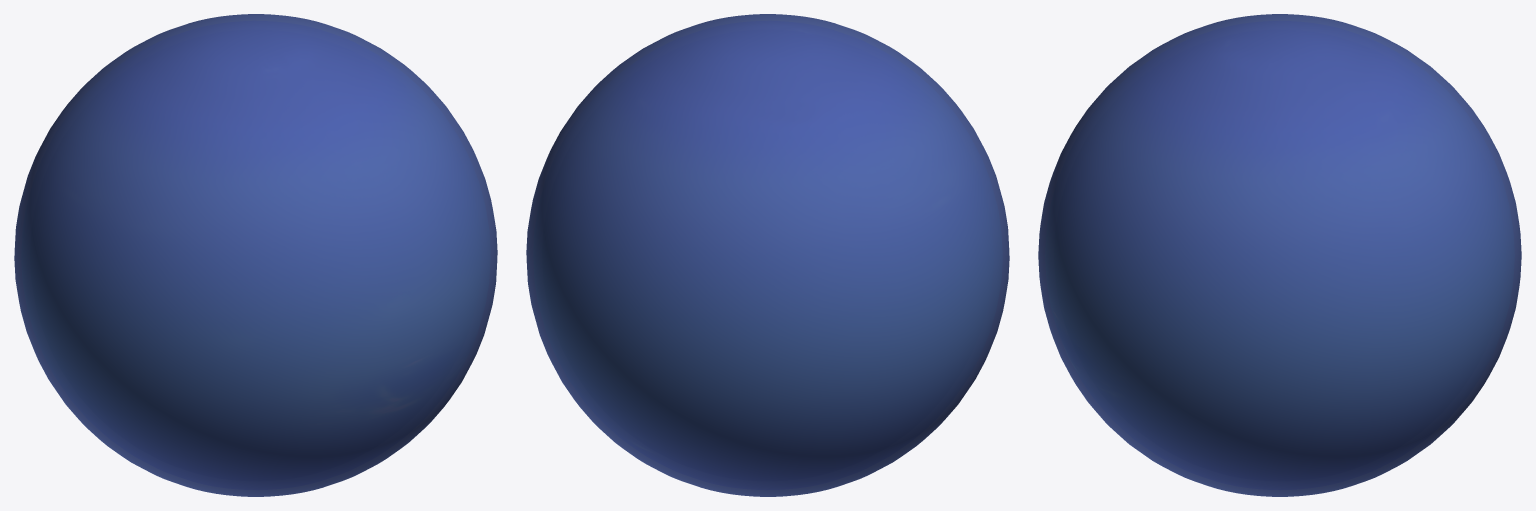
Rendered from neptune_v2.glb.
The picture shows the model from 3 angles, left to right: view 1: azimuth 30°, elevation 25°; view 2: azimuth 150°, elevation 25°; view 3: azimuth 270°, elevation 25°; orthographic projection.
Visible parts, largest first — view 1: SphereThree; view 2: SphereThree; view 3: SphereThree.
Boxes of the visible parts, x1,y1,x2,y2 form: SphereThree: (14,14,497,496); SphereThree: (526,14,1009,496); SphereThree: (1038,14,1521,496).
Size of the model in its own units: 1917 by 1917 by 1917.
